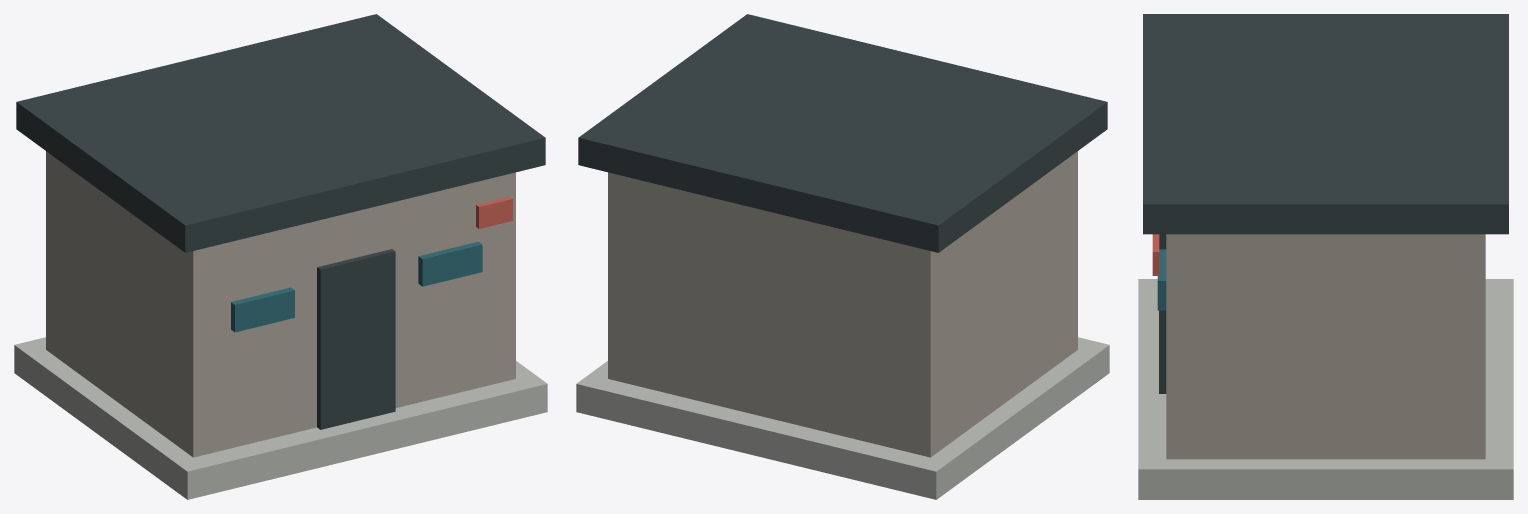
The model's file is MIL_Outpost.fbx.
The picture shows the model from 3 angles, left to right: view 1: azimuth 30°, elevation 25°; view 2: azimuth 150°, elevation 25°; view 3: azimuth 270°, elevation 25°; orthographic projection. The views are drawn at different scales.
Visible parts, largest first — view 1: MIL_Outpost_Gunmetal, Walls, Foundation, MIL_Outpost_Radar Glass, Warning; view 2: Walls, MIL_Outpost_Gunmetal, Foundation; view 3: MIL_Outpost_Gunmetal, Walls, Foundation, MIL_Outpost_Radar Glass.
Part boxes in pixels (left/top/right/bottom): MIL_Outpost_Gunmetal: left=16, top=14, right=545, bottom=429; Walls: left=46, top=151, right=515, bottom=457; Foundation: left=14, top=337, right=547, bottom=499; MIL_Outpost_Radar Glass: left=231, top=241, right=482, bottom=332; Warning: left=476, top=196, right=512, bottom=228; Walls: left=608, top=151, right=1077, bottom=457; MIL_Outpost_Gunmetal: left=578, top=14, right=1107, bottom=252; Foundation: left=576, top=337, right=1109, bottom=499; MIL_Outpost_Gunmetal: left=1143, top=14, right=1508, bottom=393; Walls: left=1166, top=234, right=1485, bottom=459; Foundation: left=1138, top=279, right=1513, bottom=499; MIL_Outpost_Radar Glass: left=1157, top=249, right=1166, bottom=310.
Bounding box in the file's own units: 480 × 348 × 400.
